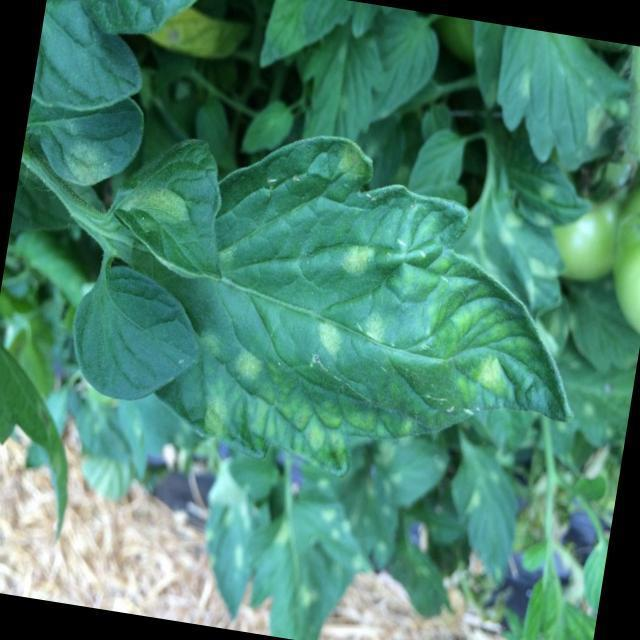Healthy Leaf: (51, 268, 204, 406)
Mosaic Virus: (184, 162, 606, 496)
